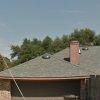Chimney: (63, 35, 83, 69)
